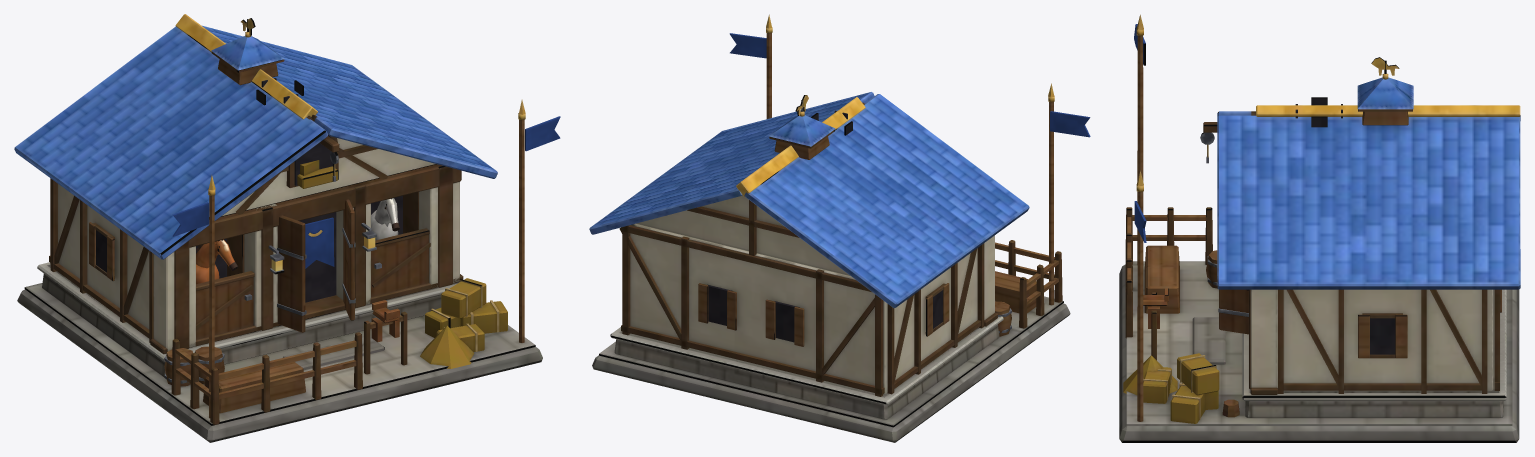
File: stable.glb
3 renders of one model, left to right at view 1: azimuth 30°, elevation 25°; view 2: azimuth 150°, elevation 25°; view 3: azimuth 270°, elevation 25°, orthographic. The views are drawn at different scales.
Visible parts, largest first — view 1: Static_Mesh, Anim_Banners; view 2: Static_Mesh, Anim_Banners; view 3: Static_Mesh, Anim_Banners.
Part boxes in pixels (box(x1,y1,x2,y2)): Static_Mesh: box(14, 14, 542, 442); Anim_Banners: box(172, 116, 560, 268); Static_Mesh: box(589, 14, 1070, 442); Anim_Banners: box(729, 33, 1090, 137); Static_Mesh: box(1119, 14, 1520, 442); Anim_Banners: box(1134, 24, 1146, 242).
Bounding box in the file's own units: 8.46 × 6.05 × 7.28.
Materials: 2 (2 with a texture image).
